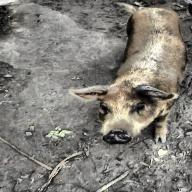boar: (66, 3, 187, 145)
